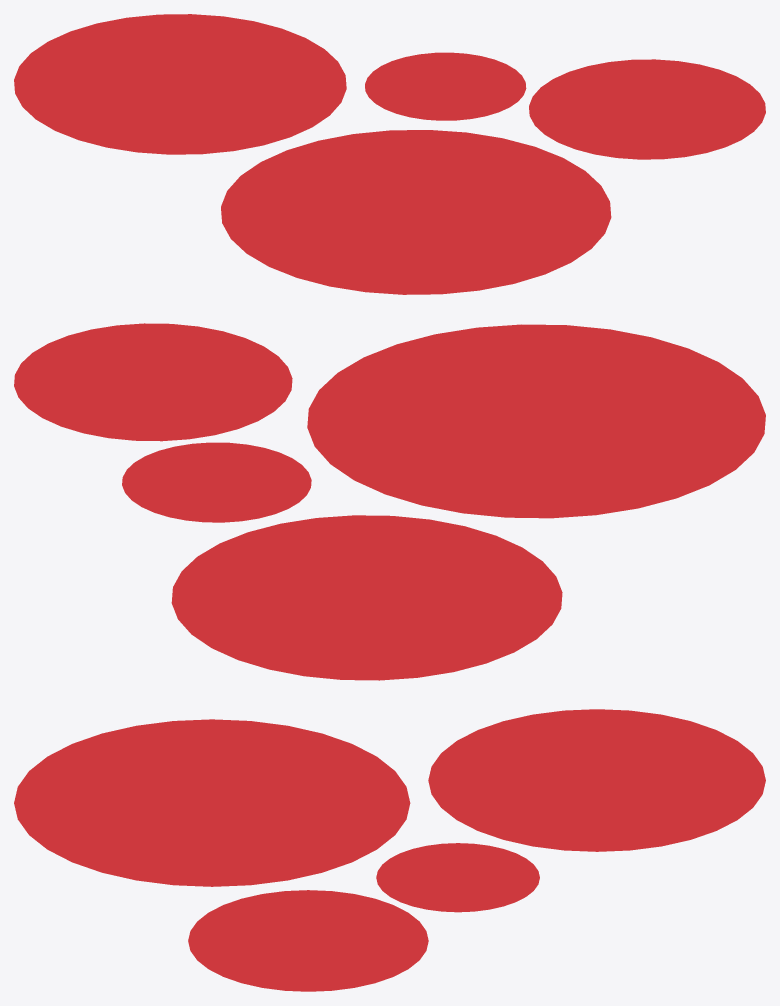
Rendered from bubbles1.gltf.
The picture shows the model from 3 angles, top to bottom: view 1: azimuth 30°, elevation 25°; view 2: azimuth 150°, elevation 25°; view 3: azimuth 270°, elevation 25°; orthographic projection. The views are drawn at different scales.
Parts seen in each view (by area): view 1: Circle.006; view 2: Circle.006; view 3: Circle.006.
Boxes of the visible parts, x1=… form: Circle.006: x1=14, y1=14, x2=765, y2=294; Circle.006: x1=14, y1=323, x2=765, y2=680; Circle.006: x1=14, y1=709, x2=765, y2=991.
Bounding box in the file's own units: 7.98 × 0 × 8.97.
